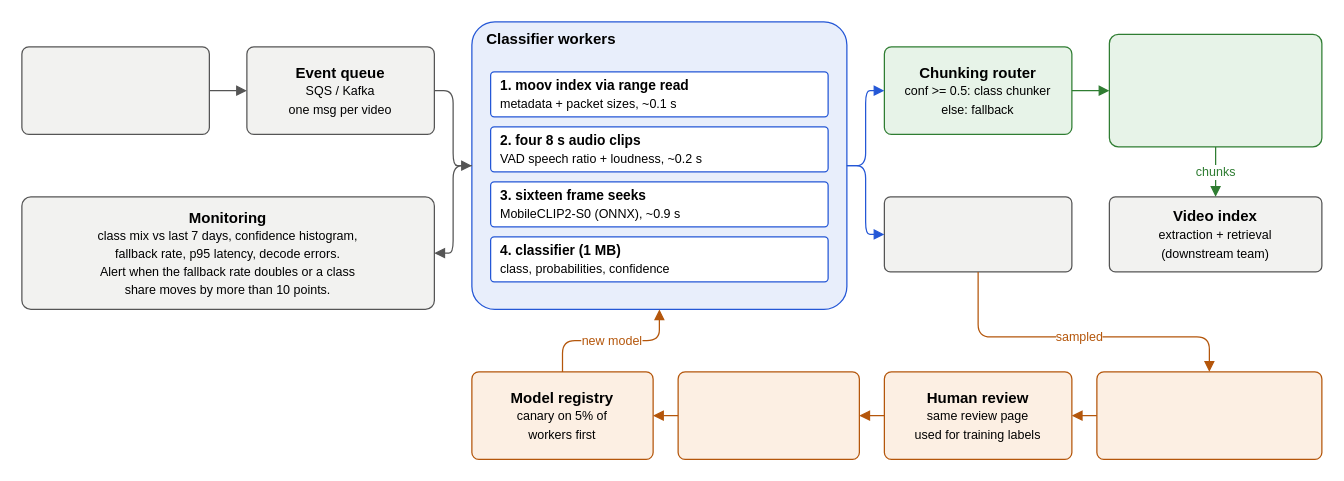
Some shapes in this 1344 by 481 pixel diagram are drawn without their labels. Each missing label, with the centre of its shape:
"Audit sample 1% random + all low-confidence; VLM teacher drafts a label" belongs at point 1209,415.
"Chunkers 8 strategies + fallback (shots, transcript, events, motion, HUD ...)" belongs at point 1215,90.
"Metadata store class, probs, features, latency per video" belongs at point 977,234.
"Object storage new video lands (S3 / GCS)" belongs at point 115,90.
"Retrain + gate grouped CV must not drop; minutes on one CPU" belongs at point 768,415.
